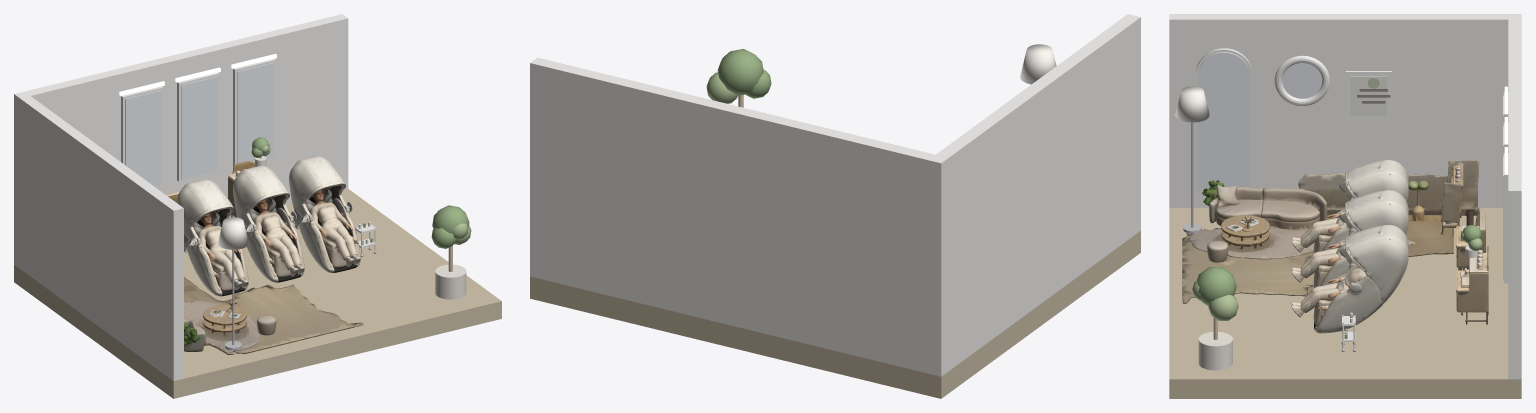
The model's file is salon.glb.
3 renders of one model, left to right at view 1: azimuth 30°, elevation 25°; view 2: azimuth 150°, elevation 25°; view 3: azimuth 270°, elevation 25°, orthographic. The views are drawn at different scales.
Parts seen in each view (by area): view 1: Room_WallLeft, Room_FloorSlab, Room_WallBack, station_pod_3, station_pod_2, station_pod_1, Deco_StationMirrorGlass1, Deco_StationMirrorGlass2, Deco_StationMirrorGlass0, tripo_part_20, tripo_part_13, tripo_part_9 (+7 smaller); view 2: Room_WallBack, Room_WallLeft, Room_FloorSlab, Deco_TreeFloor_Leaf0, Deco_LampShade, Deco_TreeFloor_Leaf1; view 3: Room_WallLeft, Room_FloorSlab, station_pod_3, Room_WallBack, Deco_ArchGlassBox, station_pod_2, station_pod_1, tripo_part_2, Deco_ArchGlassArc, tripo_part_6, tripo_part_20, tripo_part_13 (+29 smaller).
Part boxes in pixels (<box>): Room_WallLeft: <box>20,96,183,381</box>; Room_FloorSlab: <box>14,189,501,398</box>; Room_WallBack: <box>14,14,348,268</box>; station_pod_3: <box>289,156,360,272</box>; station_pod_2: <box>233,165,304,282</box>; station_pod_1: <box>177,179,248,296</box>; Deco_StationMirrorGlass1: <box>181,76,217,179</box>; Deco_StationMirrorGlass2: <box>237,62,273,163</box>; Deco_StationMirrorGlass0: <box>125,90,161,185</box>; tripo_part_20: <box>187,284,309,316</box>; tripo_part_13: <box>219,314,321,354</box>; tripo_part_9: <box>184,302,258,349</box>; Room_WallBack: <box>530,57,948,376</box>; Room_WallLeft: <box>936,14,1140,370</box>; Room_FloorSlab: <box>530,231,1140,398</box>; Deco_TreeFloor_Leaf0: <box>717,49,763,95</box>; Deco_LampShade: <box>1020,44,1056,84</box>; Deco_TreeFloor_Leaf1: <box>706,72,737,103</box>; Room_WallLeft: <box>1169,14,1508,207</box>; Room_FloorSlab: <box>1169,208,1521,398</box>; station_pod_3: <box>1291,225,1408,333</box>; Room_WallBack: <box>1508,14,1521,379</box>; Deco_ArchGlassBox: <box>1198,77,1249,187</box>; station_pod_2: <box>1291,190,1408,287</box>; station_pod_1: <box>1291,160,1408,253</box>; tripo_part_2: <box>1209,186,1333,223</box>; Deco_ArchGlassArc: <box>1198,52,1249,99</box>; tripo_part_6: <box>1409,160,1479,208</box>; tripo_part_20: <box>1252,250,1314,296</box>; tripo_part_13: <box>1182,229,1266,280</box>.
Size of the model in its own units: 1.26 by 0.69 by 1.06.
101 materials, 86 textured.
